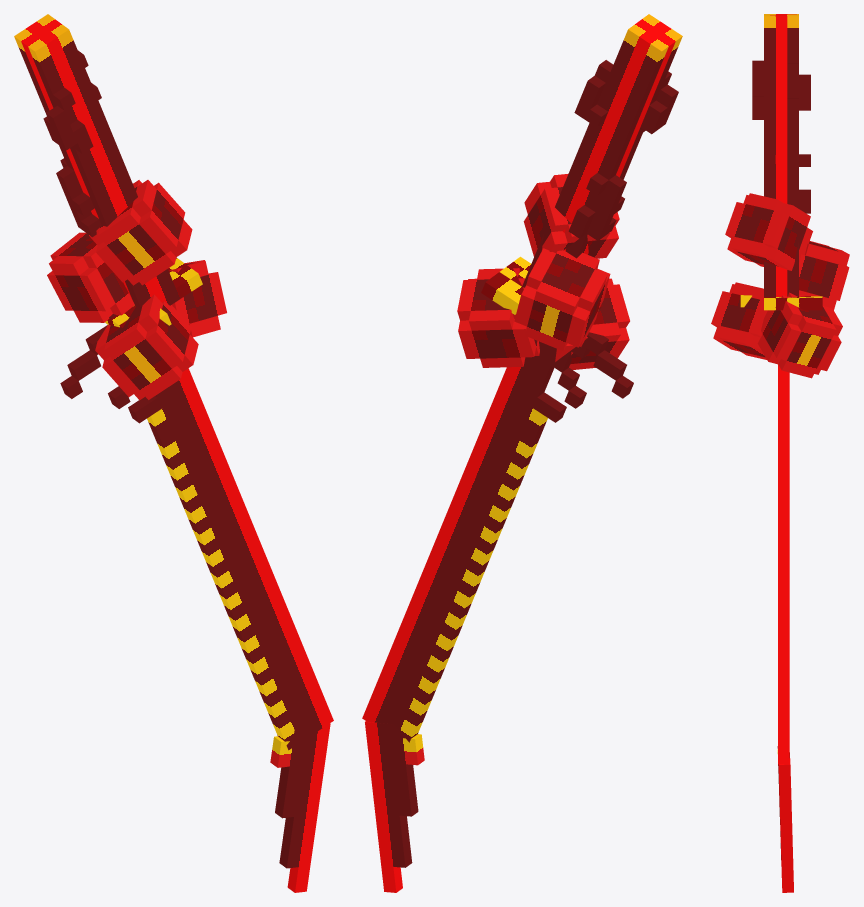
The model's file is 魔云志.gltf.
The picture shows the model from 3 angles, left to right: view 1: azimuth 30°, elevation 25°; view 2: azimuth 150°, elevation 25°; view 3: azimuth 270°, elevation 25°; orthographic projection. The views are drawn at different scales.
Parts seen in each view (by area): view 1: Object-2, Object-1 (×4), Object, Object-3; view 2: Object-2, Object-1 (×4), Object, Object-3; view 3: Object-1 (×4), Object, Object-2, Object-3.
Part boxes in pixels (left/top/right/bottom): Object-2: left=60, top=314, right=333, bottom=750; Object-1 (×4): left=47, top=180, right=226, bottom=400; Object: left=14, top=14, right=202, bottom=327; Object-3: left=270, top=723, right=330, bottom=892; Object-2: left=362, top=332, right=633, bottom=742; Object-1 (×4): left=457, top=173, right=629, bottom=369; Object: left=481, top=14, right=682, bottom=314; Object-3: left=365, top=721, right=424, bottom=892; Object-1 (×4): left=711, top=193, right=849, bottom=378; Object: left=740, top=14, right=822, bottom=310; Object-2: left=778, top=364, right=789, bottom=763; Object-3: left=777, top=746, right=793, bottom=892.
Bounding box in the file's own units: 25.21 × 73.01 × 11.85.
Materials: 1 (1 with a texture image).
